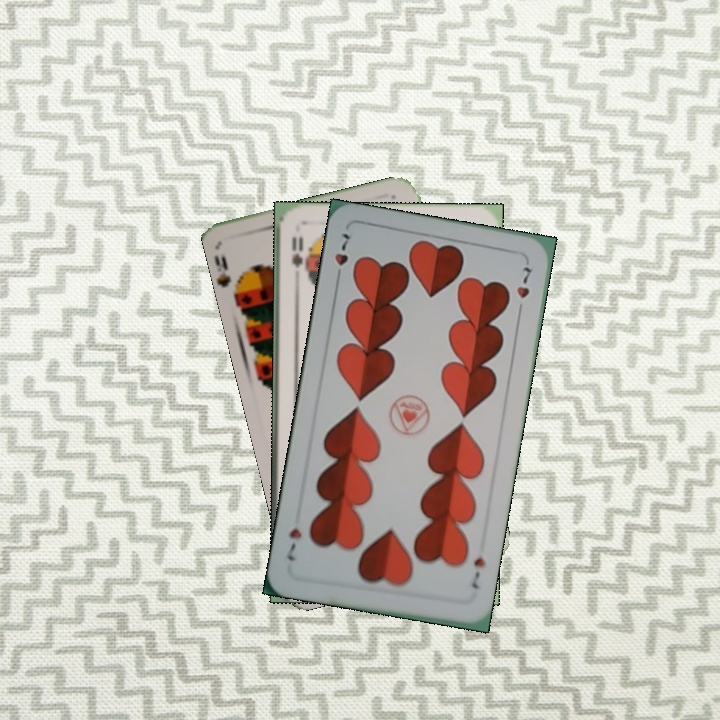H7: (330, 229, 352, 285), (467, 553, 488, 592)
S9: (212, 250, 249, 302)
SO: (288, 232, 308, 274)
